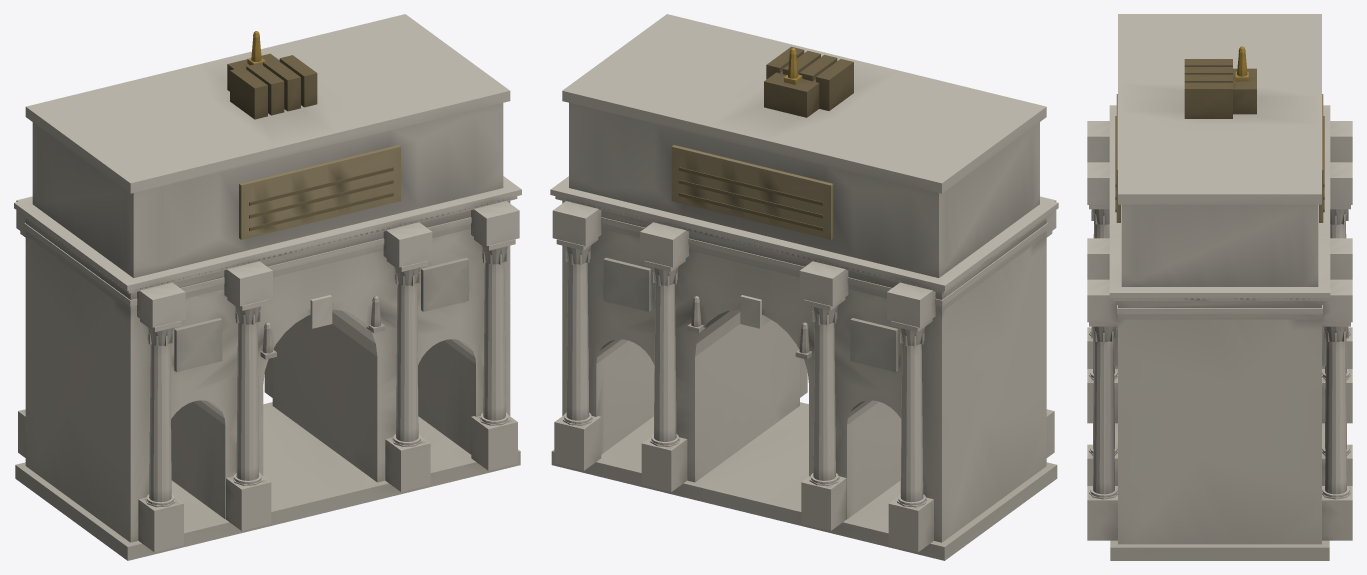
Rendered from arch-of-septimius-severus.glb.
3 renders of one model, left to right at view 1: azimuth 30°, elevation 25°; view 2: azimuth 150°, elevation 25°; view 3: azimuth 270°, elevation 25°, orthographic. The views are drawn at different scales.
Parts seen in each view (by area): view 1: p2_attic, p0_body, p1_columns; view 2: p2_attic, p0_body, p1_columns; view 3: p2_attic, p0_body, p1_columns.
Boxes of the visible parts, <box> form: p2_attic: <box>14,14,521,311</box>; p0_body: <box>15,229,520,560</box>; p1_columns: <box>16,196,519,552</box>; p2_attic: <box>550,14,1058,311</box>; p0_body: <box>551,229,1057,560</box>; p1_columns: <box>552,196,1056,552</box>; p2_attic: <box>1109,14,1330,319</box>; p0_body: <box>1110,319,1329,560</box>; p1_columns: <box>1087,121,1352,540</box>.
Bounding box in the file's own units: 23.9 × 25.04 × 14.3.
